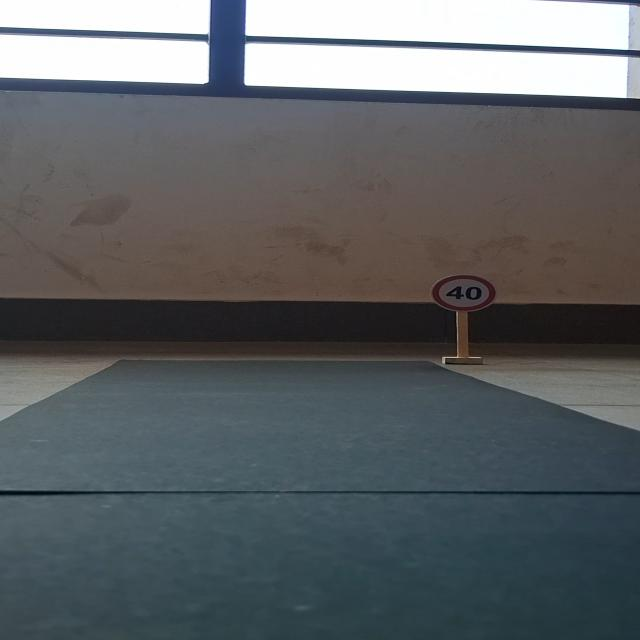Speed40: (427, 273, 503, 313)
